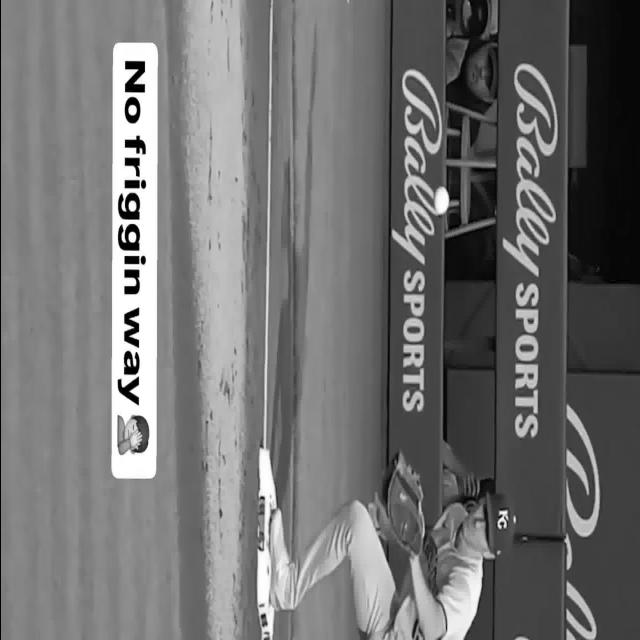base: (256, 447, 276, 640)
baseball: (432, 187, 449, 216)
baseball_glove: (386, 451, 424, 556)
shoe: (269, 509, 290, 611)
